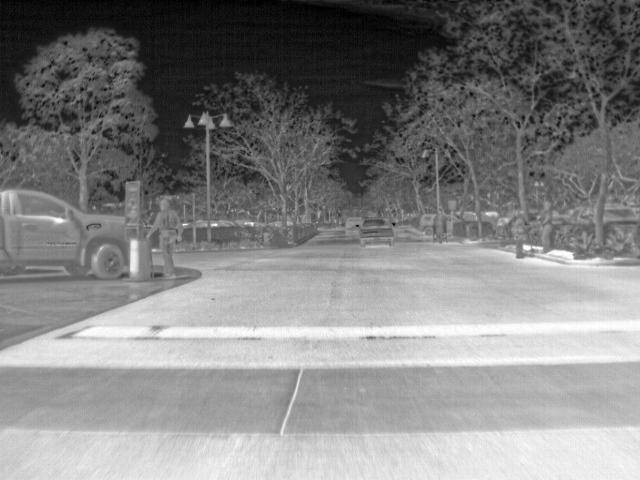car: (1, 186, 128, 282), (359, 218, 397, 248), (601, 203, 638, 225), (567, 205, 594, 224), (417, 214, 434, 234), (456, 208, 477, 222), (483, 207, 502, 222), (240, 218, 262, 230), (344, 218, 363, 230), (192, 218, 209, 230), (208, 220, 223, 232), (225, 220, 240, 230)
person: (155, 199, 180, 280), (538, 198, 558, 252), (512, 210, 528, 260), (433, 208, 449, 242)
